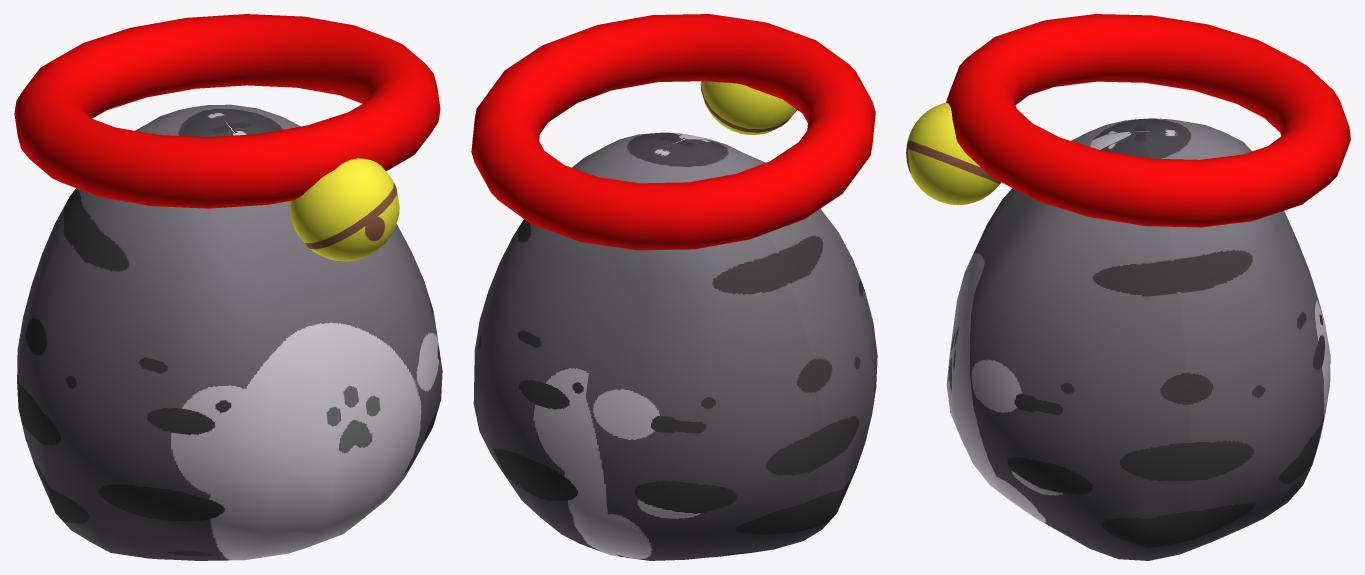
Rendered from cha_cat_body.obj.
3 renders of one model, left to right at view 1: azimuth 30°, elevation 25°; view 2: azimuth 150°, elevation 25°; view 3: azimuth 270°, elevation 25°, orthographic. The views are drawn at different scales.
Parts seen in each view (by area): view 1: body pSphere5, pTorus1 body, body pSphere4; view 2: body pSphere5, pTorus1 body, body pSphere4; view 3: body pSphere5, pTorus1 body, body pSphere4.
Boxes of the visible parts, x1,y1,x2,y2 form: body pSphere5: (17, 104, 442, 560); pTorus1 body: (14, 14, 440, 208); body pSphere4: (290, 158, 399, 261); body pSphere5: (473, 132, 877, 560); pTorus1 body: (471, 14, 875, 250); body pSphere4: (700, 81, 796, 135); body pSphere5: (946, 118, 1330, 560); pTorus1 body: (946, 14, 1350, 227); body pSphere4: (906, 102, 1000, 205).
Bounding box in the file's own units: 0.5973 × 0.7195 × 0.653.
Materials: 3 (2 with a texture image).
